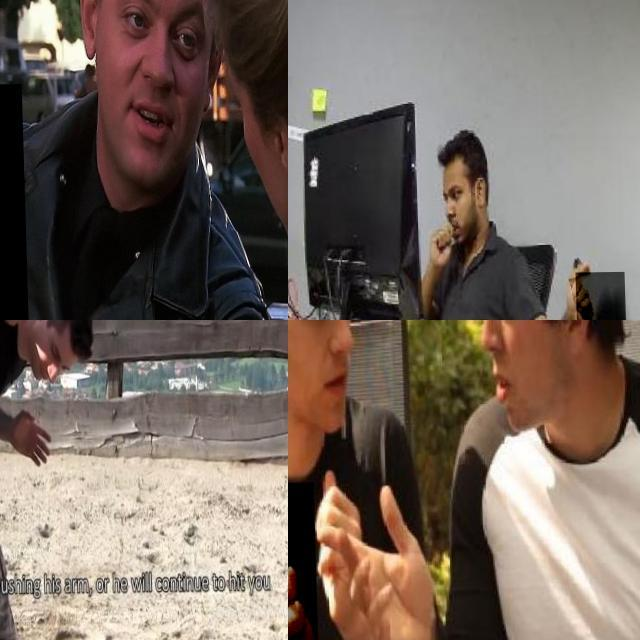-: (288, 483, 329, 640), (572, 272, 624, 320), (0, 320, 25, 370)
gun-knife-thesis - v11 Yolov5 augmented: (0, 84, 96, 320)
